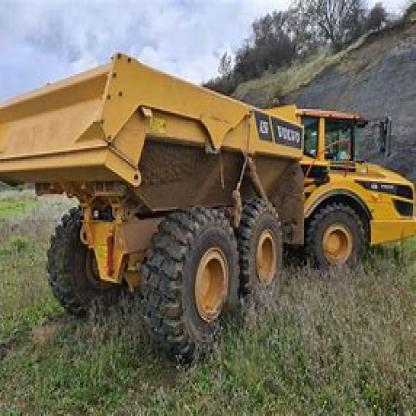dump_truck: (1, 44, 414, 357)
